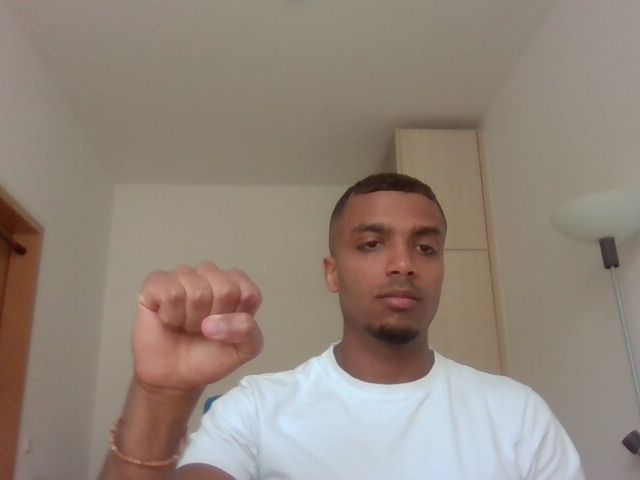maybe: (119, 248, 278, 398)
